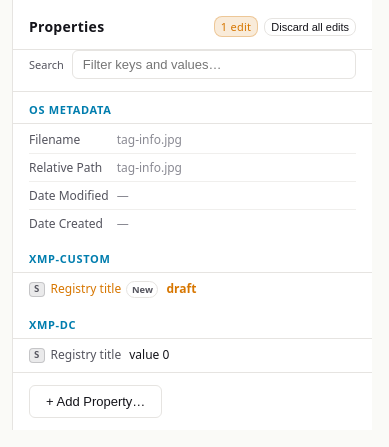
it: DetailsPane schema registry › keeps a same-schema New Property editable from the exact registry
Check: the row with test id "details-row" shows "Registry title", box [51,280,121,297]
Right-click the row with test id "details-row" showing "S Registry title New draft".
right_click(192, 289)  # box [29,275,356,303]
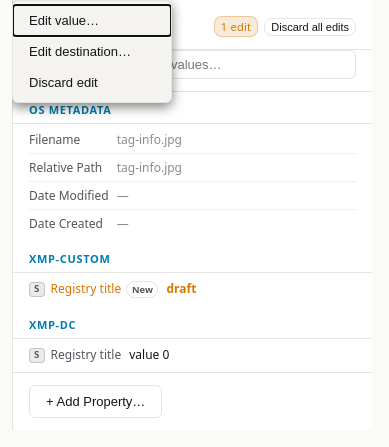
Check: the button "Edit value…" is shown, box [13,5,171,36]
